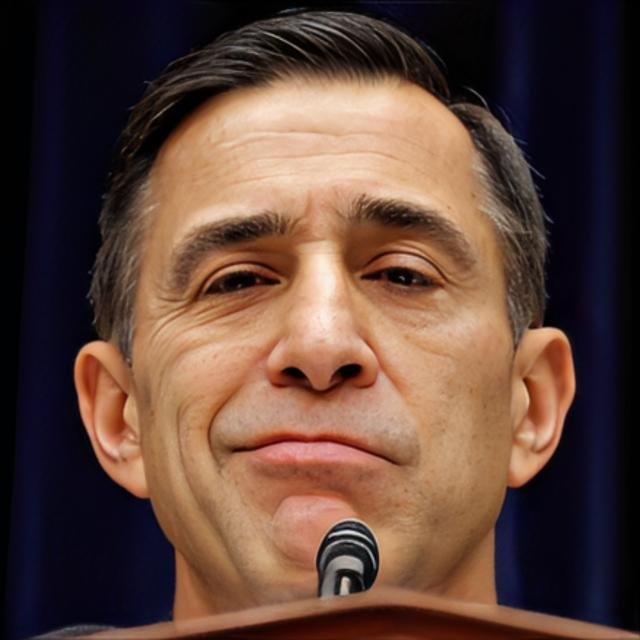content: (129, 55, 519, 616)
